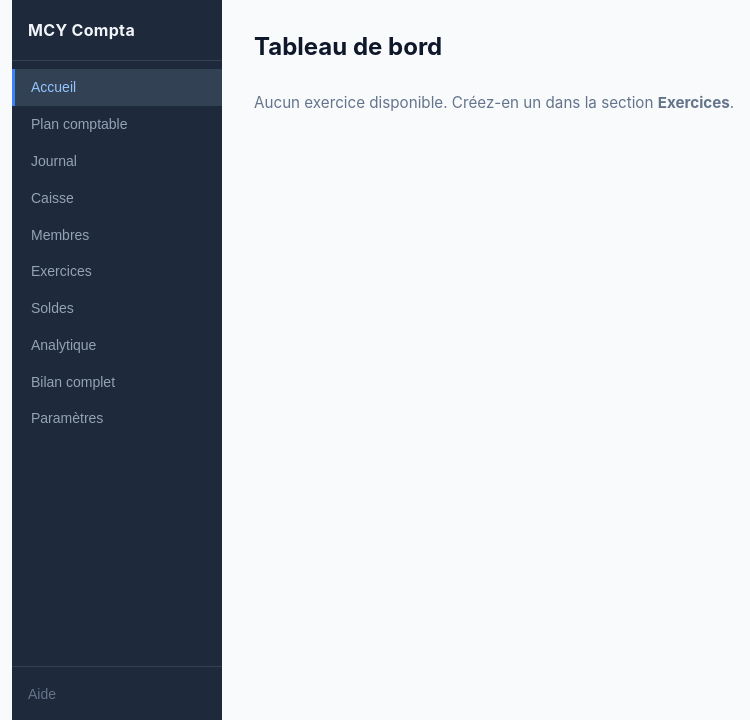
App — navigation › navigue vers Exercices au clic
The width and height of the screenshot is (750, 720).
Click the button "Exercices" at (117, 271), box [12,253,222,290]
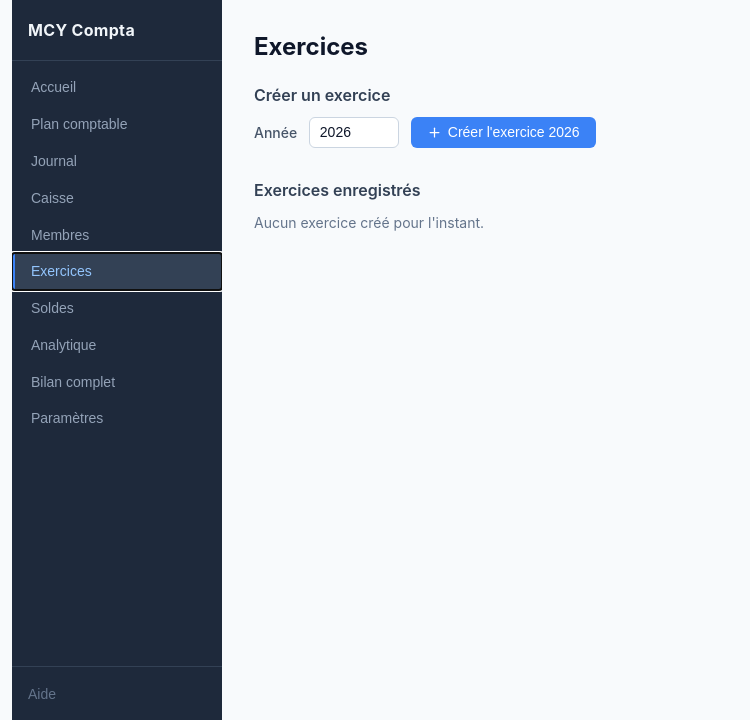
Now the heading "Exercices" is shown, box [254,32,368,61]
